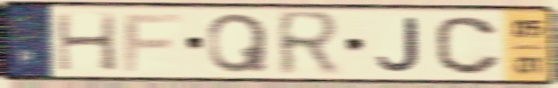C: (431, 14, 505, 77)
F: (120, 12, 185, 74)
H: (52, 11, 121, 73)
J: (373, 15, 423, 74)
Q: (206, 11, 271, 76)
R: (274, 9, 346, 80)
